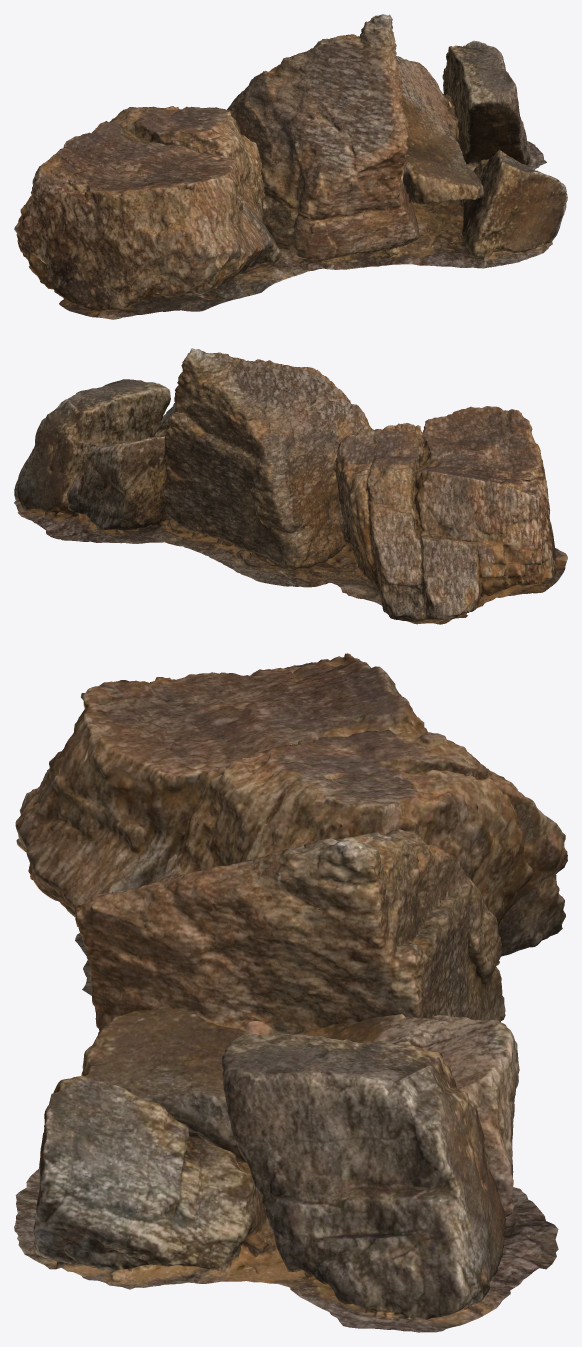
The model's file is boulder_medium_a.glb.
3 views of the same model, one above another, from view 1: azimuth 30°, elevation 25°; view 2: azimuth 150°, elevation 25°; view 3: azimuth 270°, elevation 25° (orthographic). The views are drawn at different scales.
Visible parts, largest first — view 1: boulder_02; view 2: boulder_02; view 3: boulder_02.
Part boxes in pixels (x1,y1,x2,y2): boulder_02: (14, 14, 567, 319); boulder_02: (14, 348, 567, 624); boulder_02: (14, 653, 567, 1332).
Bounding box in the file's own units: 2.53 × 0.8826 × 1.23.
1 material, 1 textured.
